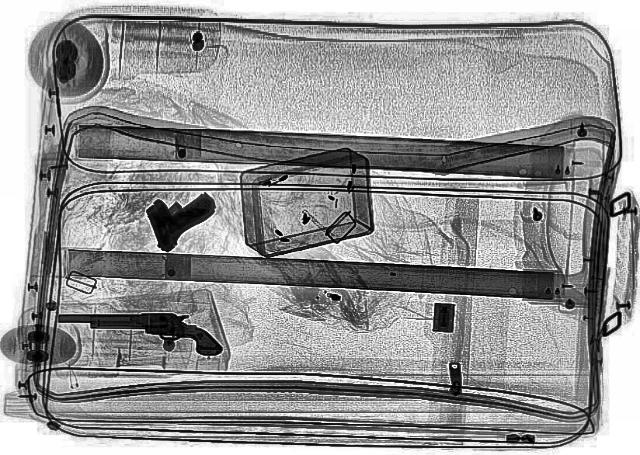Gun: (58, 311, 222, 357), (123, 182, 230, 250)
